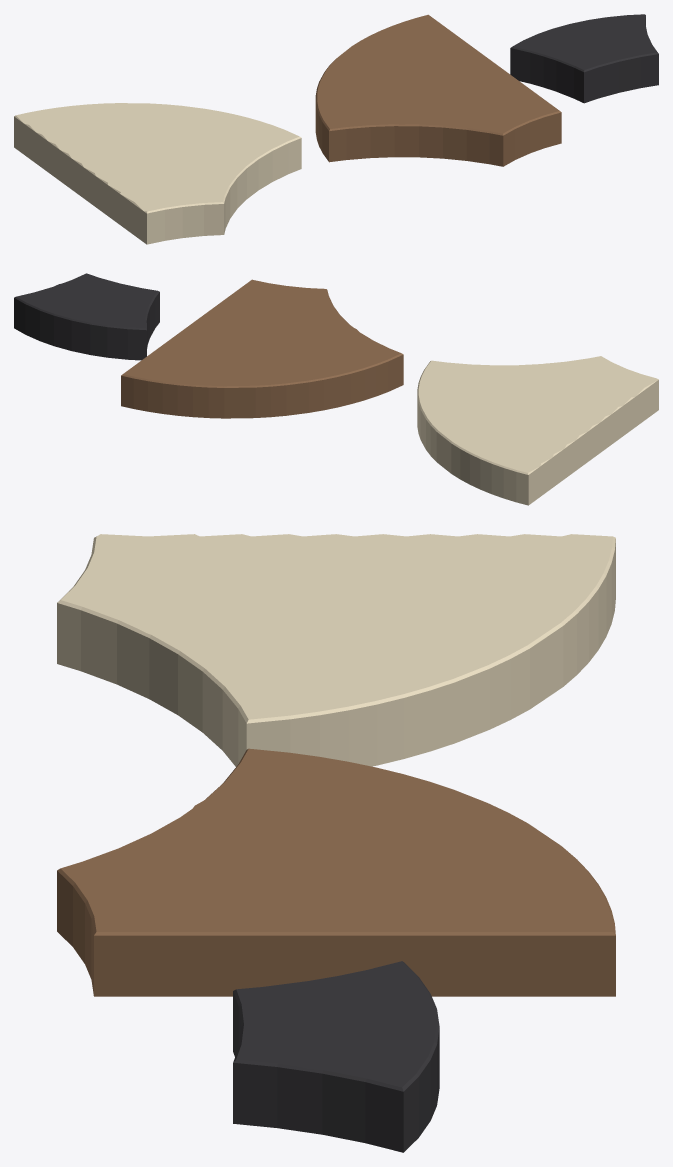
The model's file is mahsulot.glb.
The picture shows the model from 3 angles, top to bottom: view 1: azimuth 30°, elevation 25°; view 2: azimuth 150°, elevation 25°; view 3: azimuth 270°, elevation 25°; orthographic projection. The views are drawn at different scales.
Visible parts, largest first — view 1: mahsulot_A, mahsulot_Am, mahsulot_B; view 2: mahsulot_Am, mahsulot_A, mahsulot_B; view 3: mahsulot_A, mahsulot_Am, mahsulot_B.
Boxes of the visible parts, x1,y1,x2,y2 form: mahsulot_A: (14,103,301,244); mahsulot_Am: (315,14,561,166); mahsulot_B: (510,14,658,103); mahsulot_Am: (121,279,403,418); mahsulot_A: (417,356,658,505); mahsulot_B: (14,273,159,360); mahsulot_A: (57,534,615,766); mahsulot_Am: (57,748,615,996); mahsulot_B: (233,961,439,1152).
Bounding box in the file's own units: 0.7112 × 0.038 × 0.3026.
